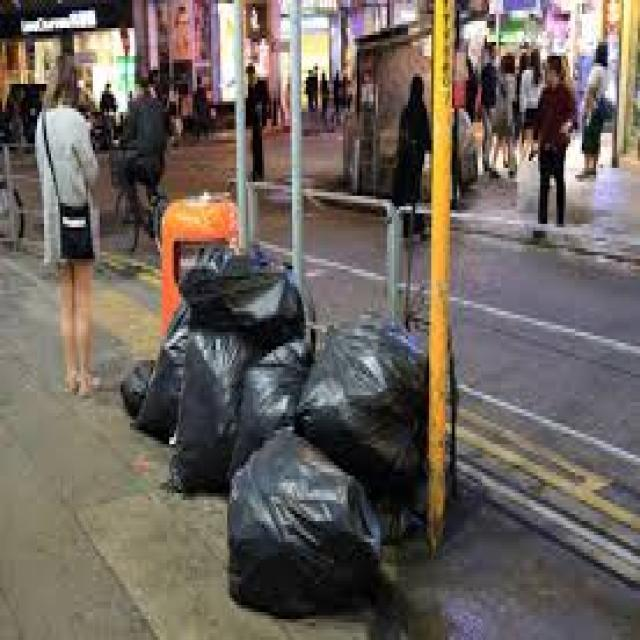Trashbag: (214, 449, 398, 606), (315, 314, 466, 483), (177, 328, 235, 500), (183, 261, 314, 336), (117, 325, 190, 444), (244, 340, 307, 458)
